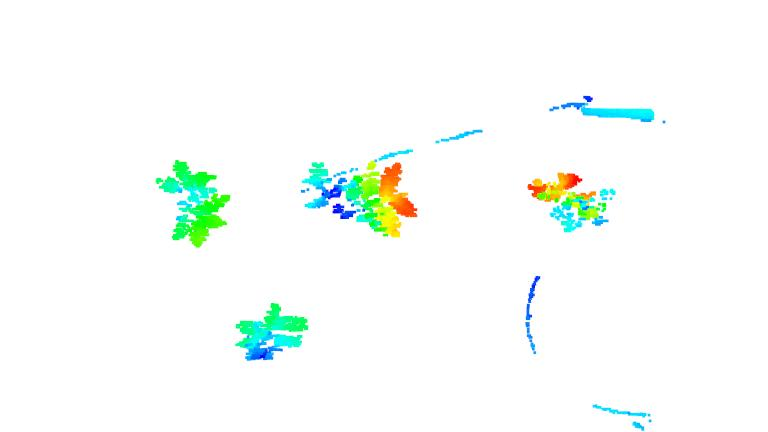chickpea: (299, 154, 420, 240), (156, 157, 229, 251), (529, 168, 611, 234), (233, 303, 310, 364)
